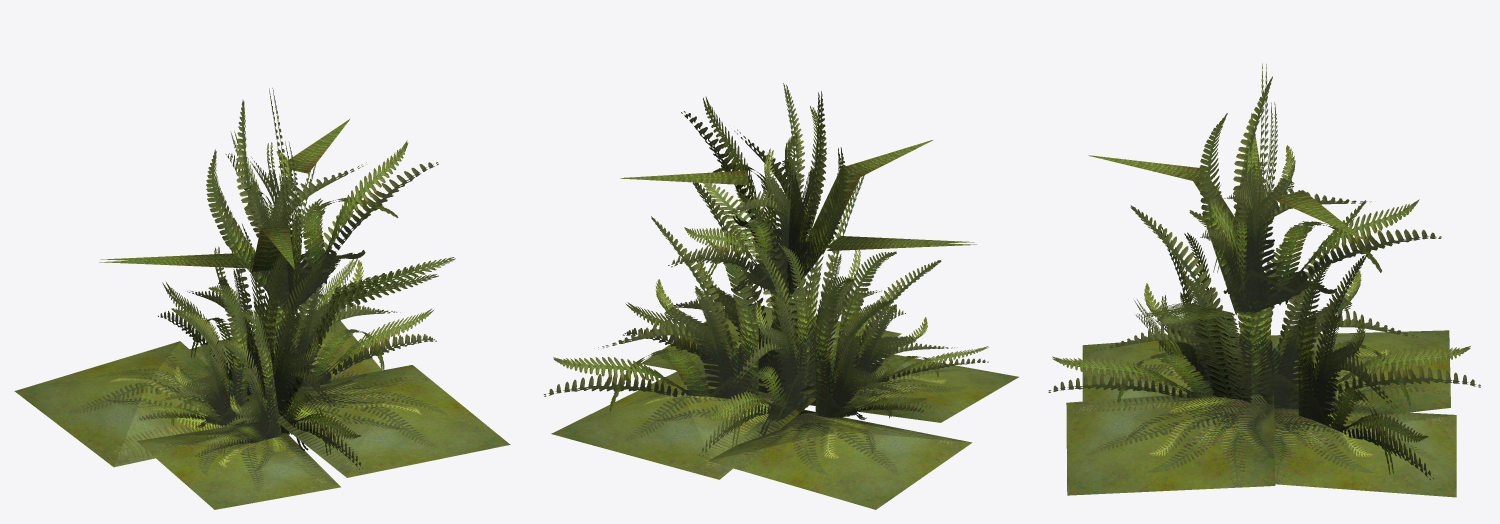
The model's file is frst_fern_olive_tall_l3.fbx.
3 renders of one model, left to right at view 1: azimuth 30°, elevation 25°; view 2: azimuth 150°, elevation 25°; view 3: azimuth 270°, elevation 25°, orthographic. The views are drawn at different scales.
Visible parts, largest first — view 1: mesh_node; view 2: mesh_node; view 3: mesh_node.
Boxes of the visible parts, x1=… form: mesh_node: x1=14, y1=88, x2=510, y2=509; mesh_node: x1=543, y1=83, x2=1018, y2=509; mesh_node: x1=1048, y1=63, x2=1480, y2=497.
Bounding box in the file's own units: 3.66 × 3.92 × 3.69.
